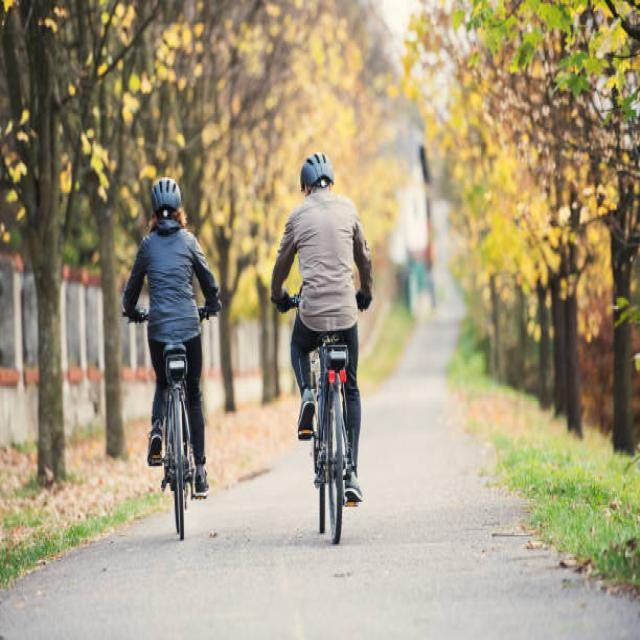bicycle: (271, 152, 374, 543), (124, 178, 220, 539)
